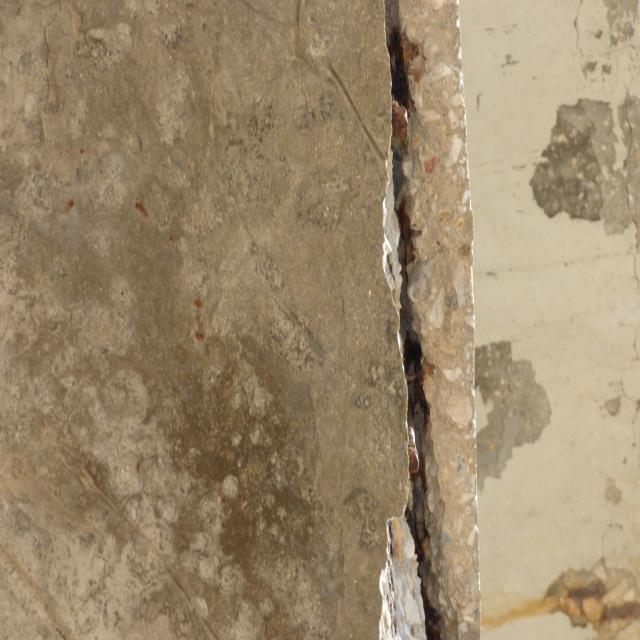corrosion: (374, 18, 454, 640), (52, 129, 228, 366), (477, 566, 640, 640)
